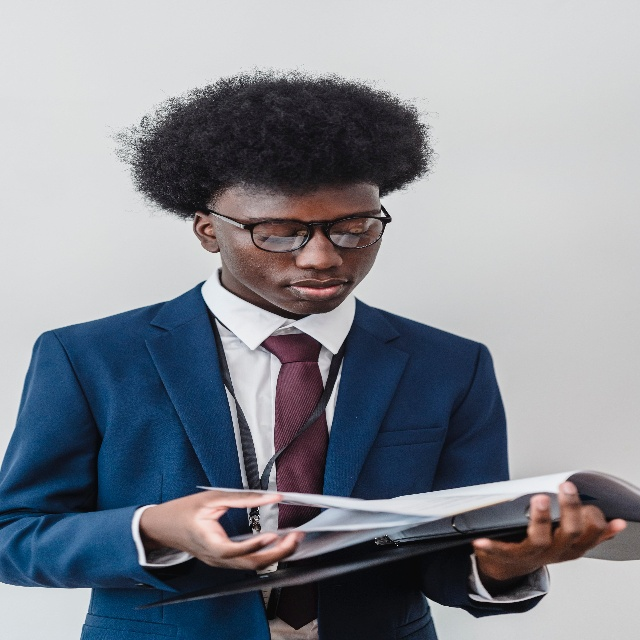Gafas: (207, 204, 392, 254)
Sin_guantes: (472, 479, 627, 578), (154, 489, 305, 571)
